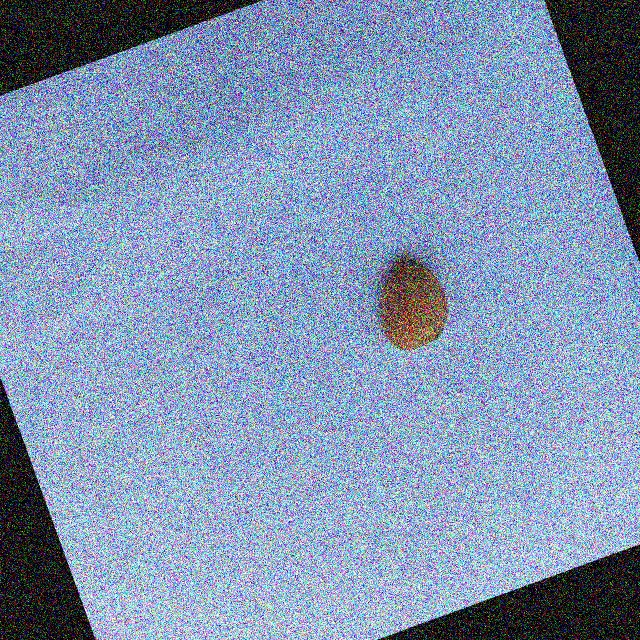grade2: (355, 245, 463, 362)
